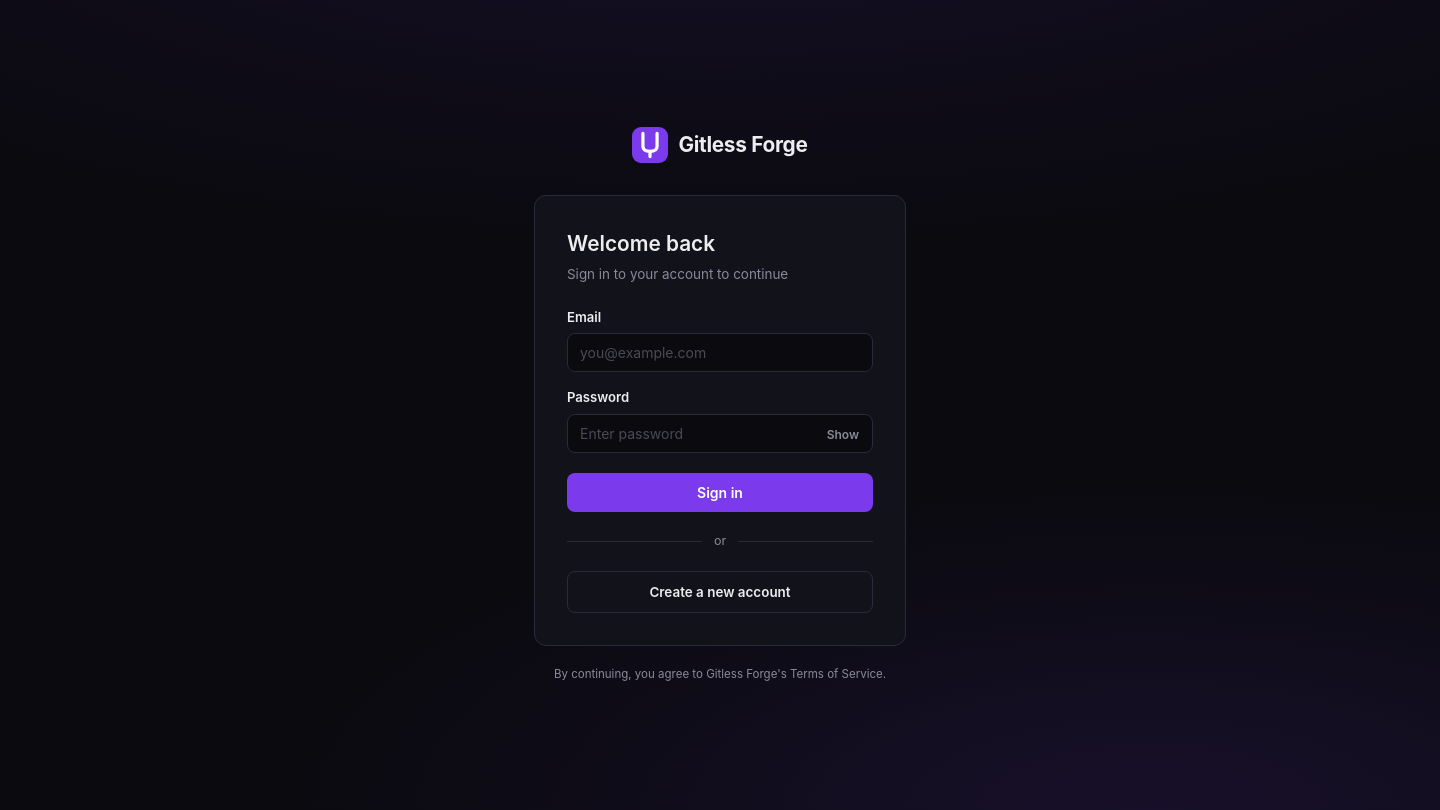
Login Component › shows validation error for empty fields
What coordinates should you click on to do the following:
click the button "Sign in"
I would click on:
 (720, 493)
Its box is [567,473,873,512].
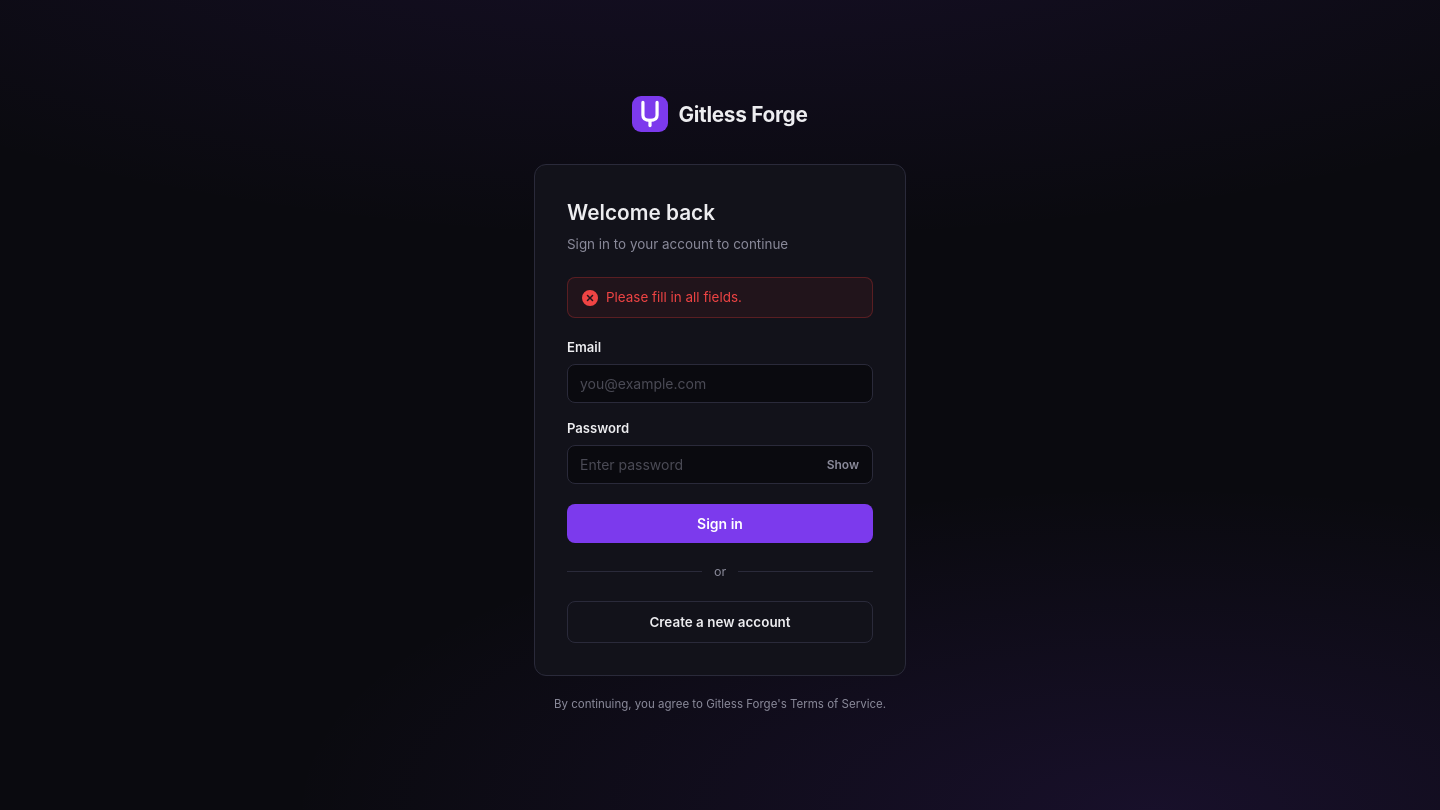
expect the text "Please fill in all fields." is shown: met, box [606,288,742,307]
